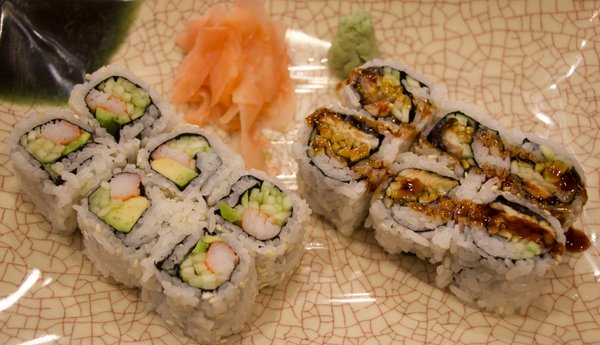soup: (296, 58, 594, 291)
